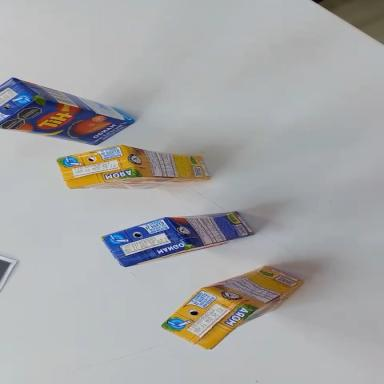HIT-MANGO: (0, 74, 136, 165), (101, 198, 254, 271)
HIT-MORA: (157, 241, 307, 365), (57, 144, 211, 189)
cara_F: (0, 91, 134, 161), (71, 177, 206, 189)
